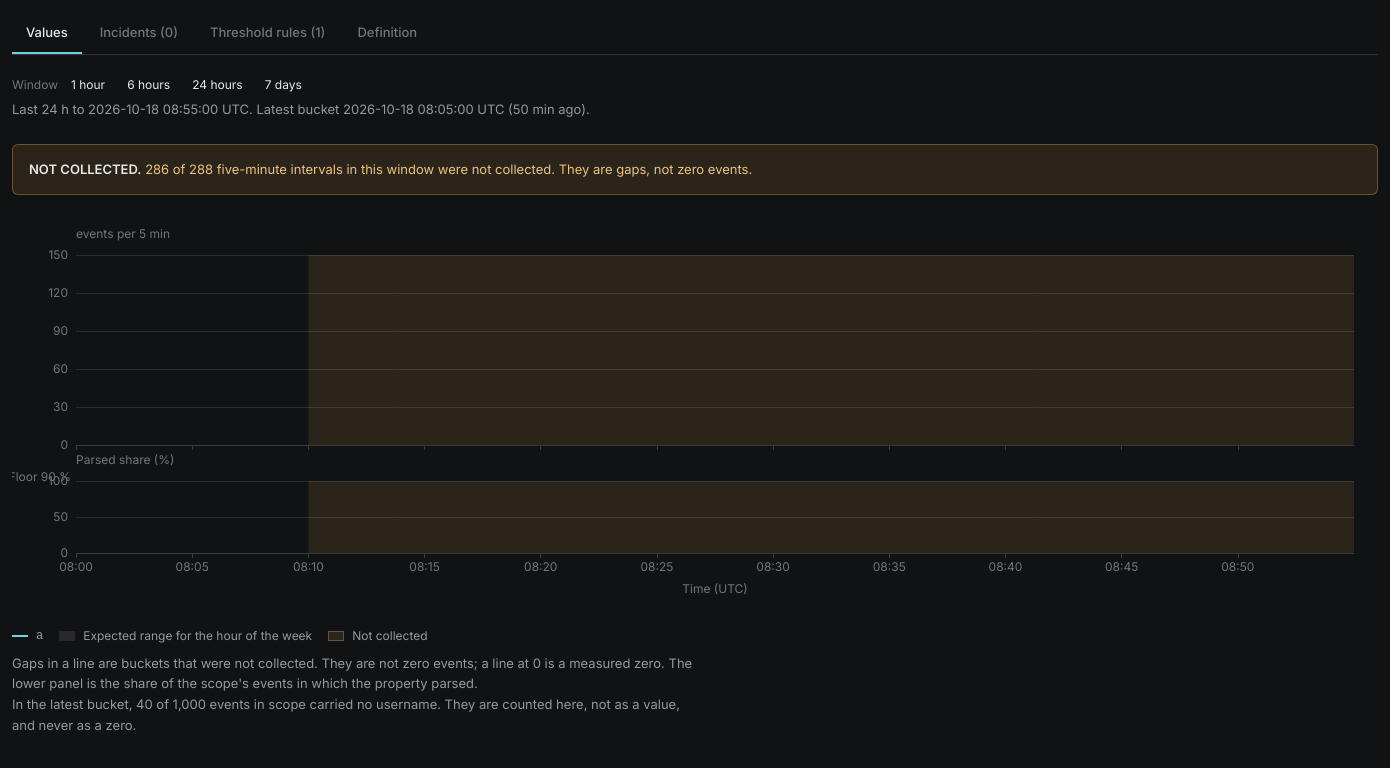
Test: the tabs › lists the rules that pin a value of this watch on the Threshold rules tab
Click the tab "Threshold rules (1)". click: [268, 33]
box: [196,12,339,54]
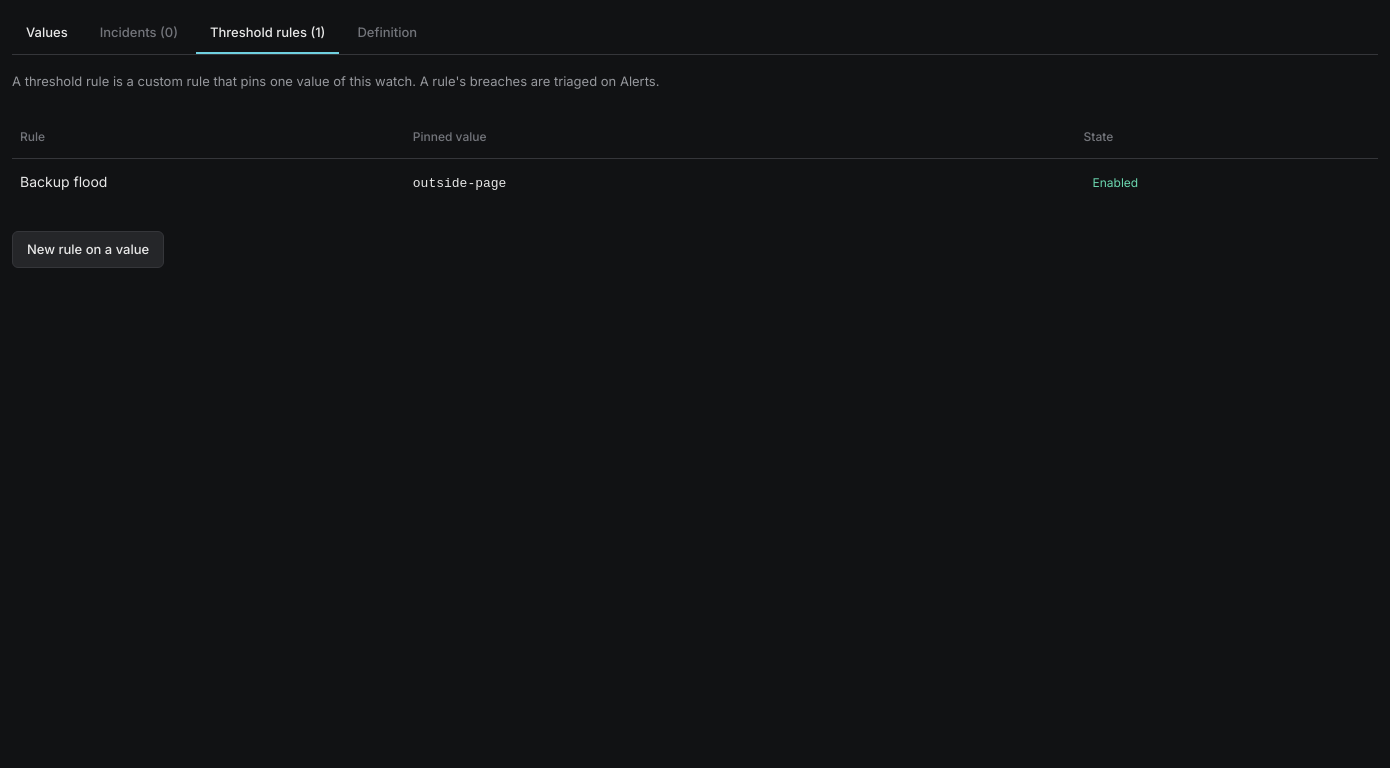
Result: the text "outside-page" is shown at [413,176,506,191]
